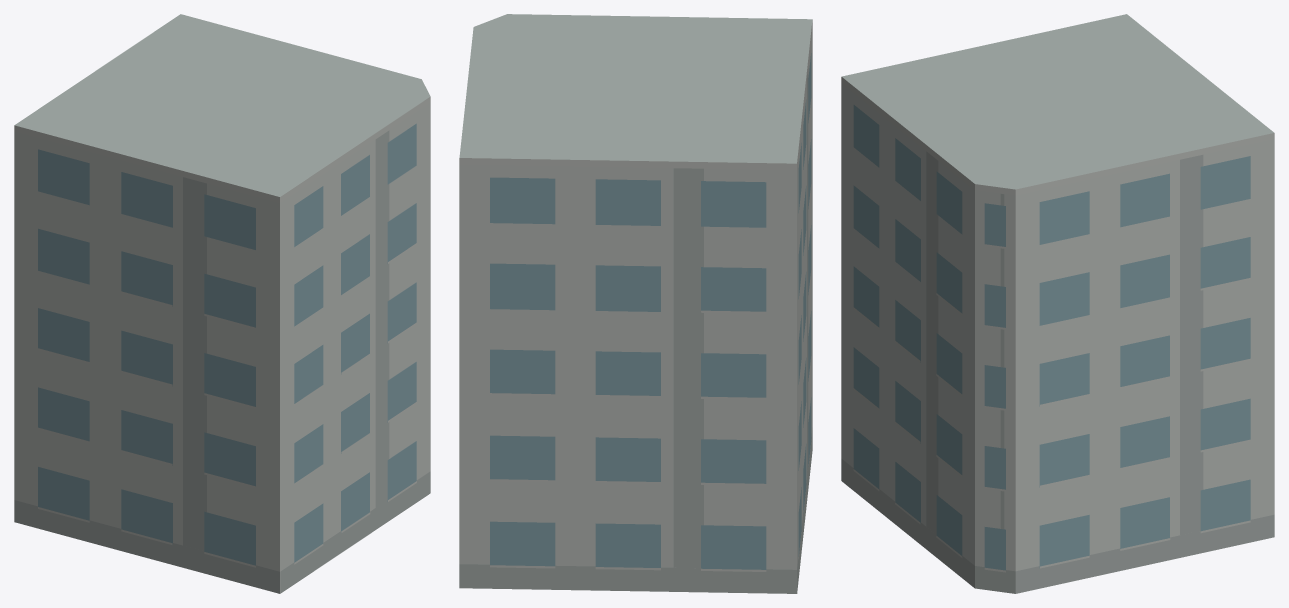
Rendered from survey-upis-33016485.glb.
3 renders of one model, left to right at view 1: azimuth 30°, elevation 25°; view 2: azimuth 150°, elevation 25°; view 3: azimuth 270°, elevation 25°, orthographic. The views are drawn at different scales.
Parts seen in each view (by area): view 1: survey-upis-33016485.tmp; view 2: survey-upis-33016485.tmp; view 3: survey-upis-33016485.tmp.
Part boxes in pixels (box(x1,y1,x2,y2)): survey-upis-33016485.tmp: box(14, 14, 430, 593); survey-upis-33016485.tmp: box(459, 14, 812, 593); survey-upis-33016485.tmp: box(841, 14, 1274, 593).
Bounding box in the file's own units: 14.71 × 15.8 × 15.35.
